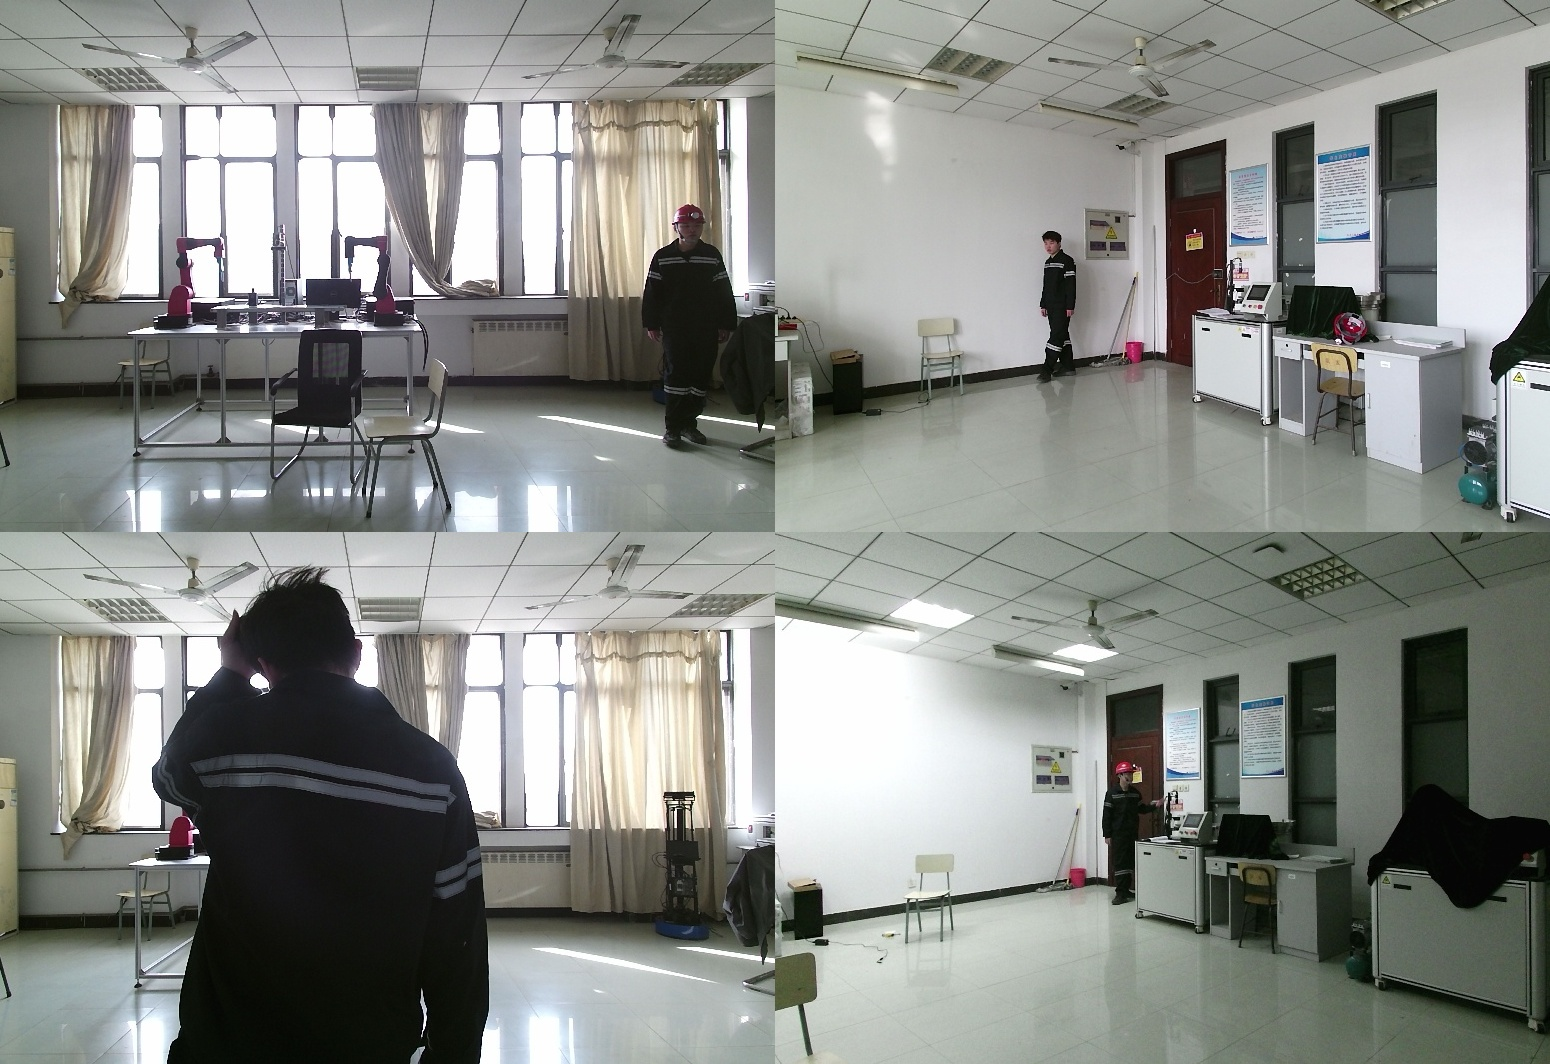person: (153, 576, 491, 1064), (643, 207, 738, 448), (1101, 765, 1154, 906), (1039, 229, 1080, 385)
